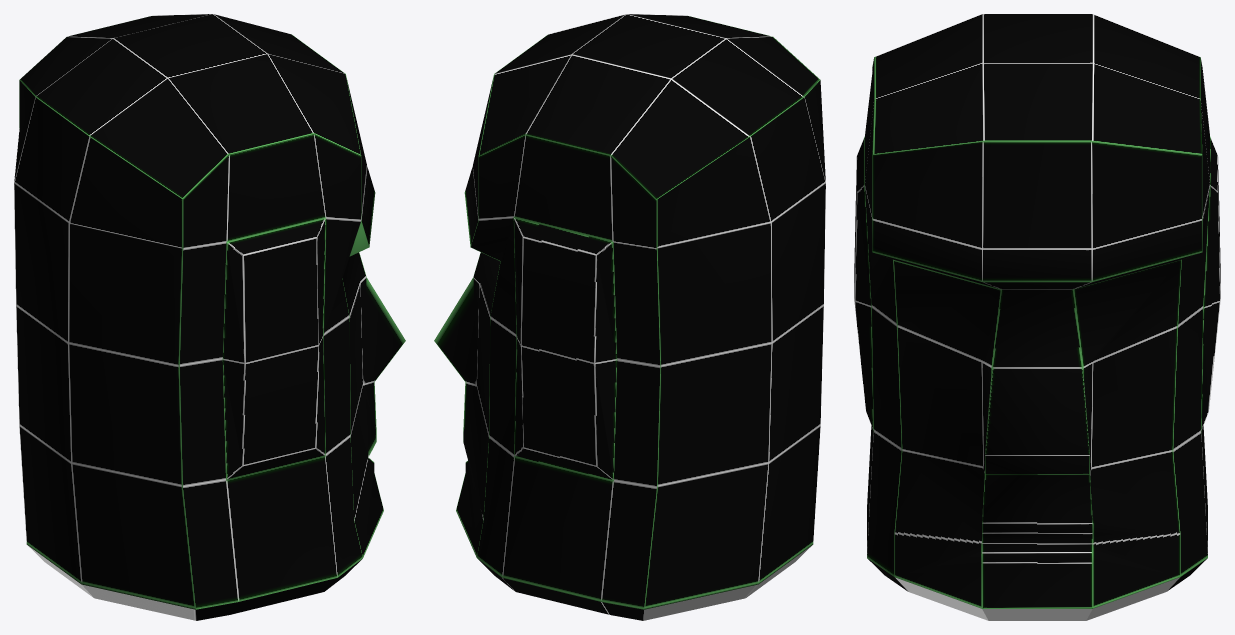
Rendered from EasterIslandHead.FBX.
3 renders of one model, left to right at view 1: azimuth 30°, elevation 25°; view 2: azimuth 150°, elevation 25°; view 3: azimuth 270°, elevation 25°, orthographic.
Visible parts, largest first — view 1: Box001; view 2: Box001; view 3: Box001.
Part boxes in pixels (left/top/right/bottom): Box001: left=14, top=14, right=405, bottom=620; Box001: left=434, top=14, right=825, bottom=620; Box001: left=854, top=14, right=1220, bottom=620.
Size of the model in its own units: 21.91 by 31.97 by 20.36.
